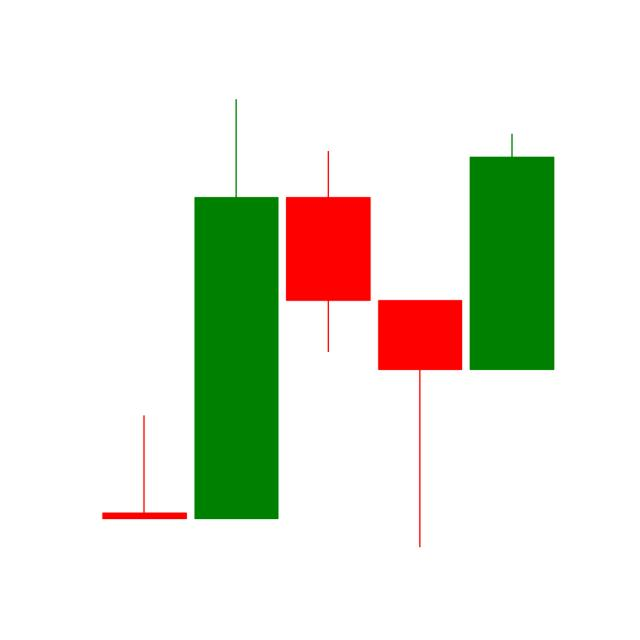Gravenstone Doji: (95, 408, 191, 531)
Hanging Man: (373, 297, 467, 550)
